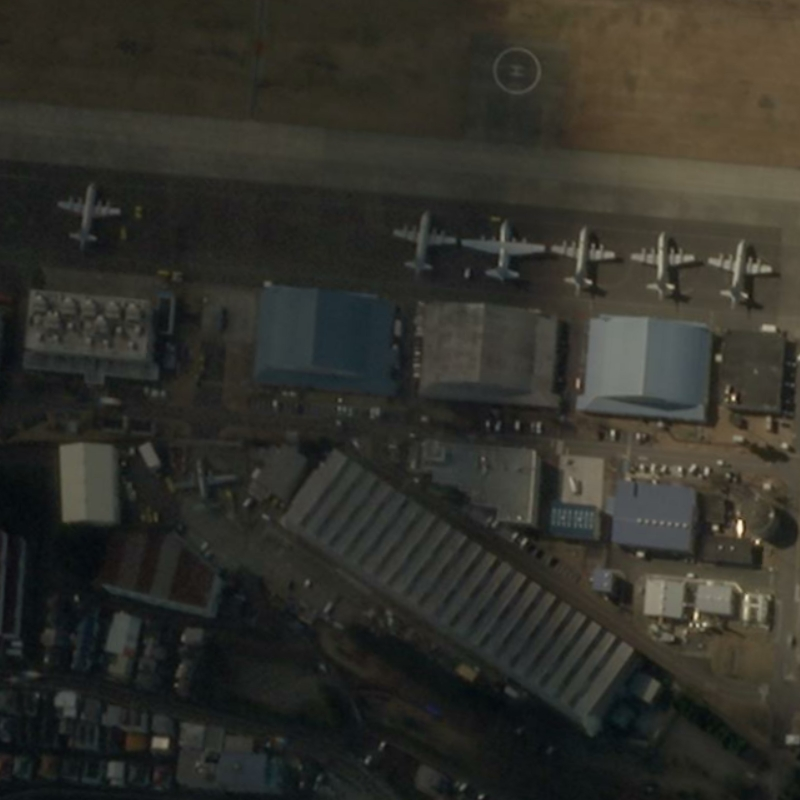A2: (459, 214, 547, 285)
A9: (623, 220, 699, 304), (549, 214, 620, 300), (704, 228, 776, 312), (381, 198, 456, 278), (52, 175, 126, 247)
